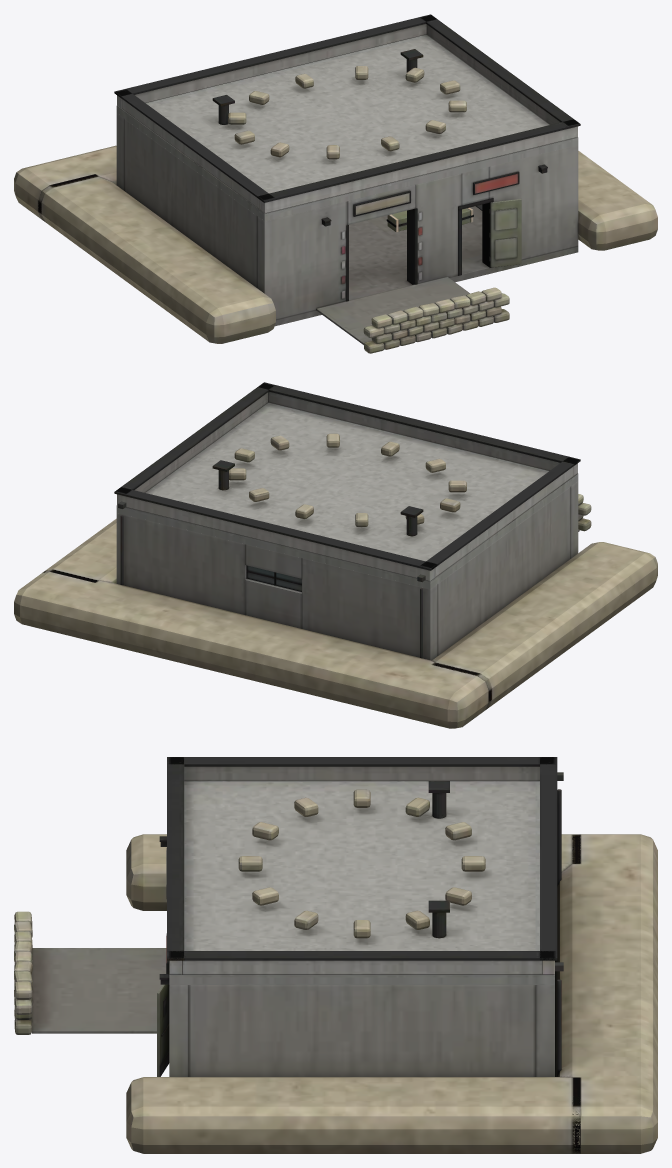
Rendered from ammodepot.glb.
The picture shows the model from 3 angles, top to bottom: view 1: azimuth 30°, elevation 25°; view 2: azimuth 150°, elevation 25°; view 3: azimuth 270°, elevation 25°; orthographic projection. The views are drawn at different scales.
Visible parts, largest first — view 1: BldG_Shell, BldG_Roof, BldG_Interior; view 2: BldG_Shell, BldG_Roof; view 3: BldG_Shell, BldG_Roof.
Boxes of the visible parts, x1,y1,x2,y2 form: BldG_Shell: [14, 113, 657, 353]; BldG_Roof: [114, 14, 580, 221]; BldG_Interior: [386, 204, 482, 232]; BldG_Shell: [14, 481, 657, 728]; BldG_Roof: [114, 382, 580, 588]; BldG_Shell: [14, 772, 657, 1153]; BldG_Roof: [167, 757, 557, 984].
Bounding box in the file's own units: 15.8 × 4.63 × 15.02.
Materials: 3 (3 with a texture image).
